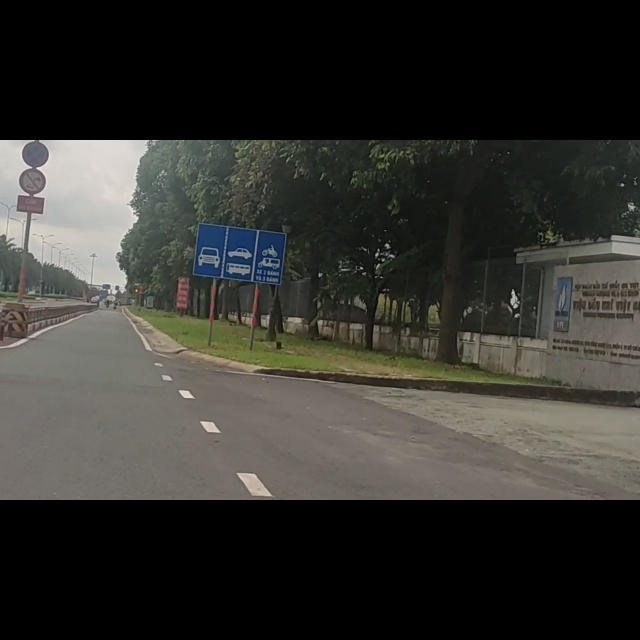bien_chi_dan: (191, 142, 284, 260), (20, 2, 49, 49), (18, 51, 47, 95)
